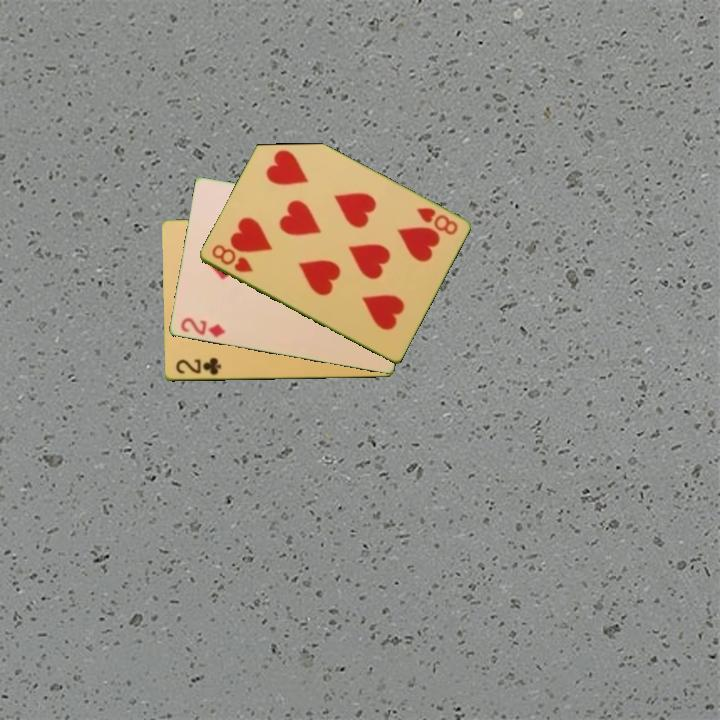2c: (172, 354, 224, 378)
2d: (177, 314, 228, 340)
8h: (208, 241, 256, 276), (412, 204, 461, 238)
